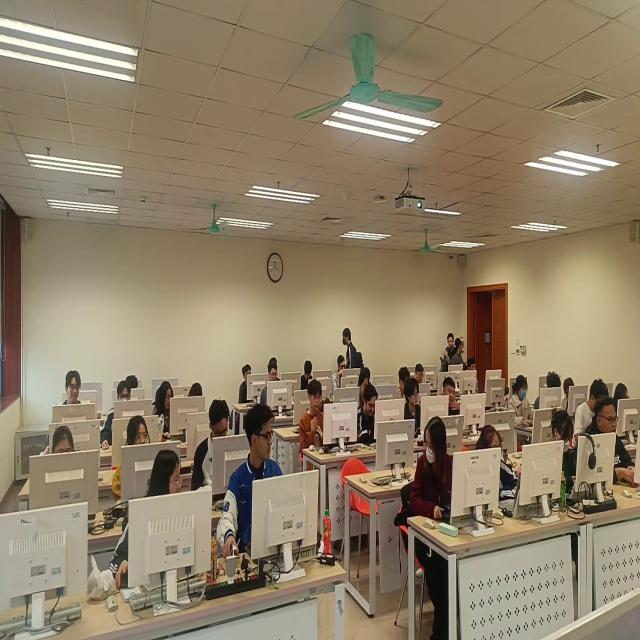raise_head: (111, 416, 151, 502)
stand: (343, 325, 364, 372), (450, 335, 465, 370), (442, 333, 455, 372)
using_computer: (584, 396, 638, 490), (190, 397, 233, 500), (471, 425, 522, 506), (41, 369, 87, 455), (550, 406, 583, 501), (576, 374, 611, 442), (101, 380, 132, 456), (299, 379, 328, 451), (508, 375, 536, 429), (405, 375, 424, 442), (357, 385, 378, 445), (158, 379, 178, 442), (51, 424, 82, 463), (535, 372, 563, 415), (260, 362, 283, 406), (442, 376, 463, 420), (239, 364, 256, 405), (563, 377, 579, 414), (467, 355, 481, 394), (614, 381, 631, 413), (395, 365, 411, 398), (334, 354, 347, 391), (187, 380, 206, 404), (301, 358, 314, 392), (127, 370, 142, 395), (357, 371, 369, 400), (416, 362, 427, 386)
